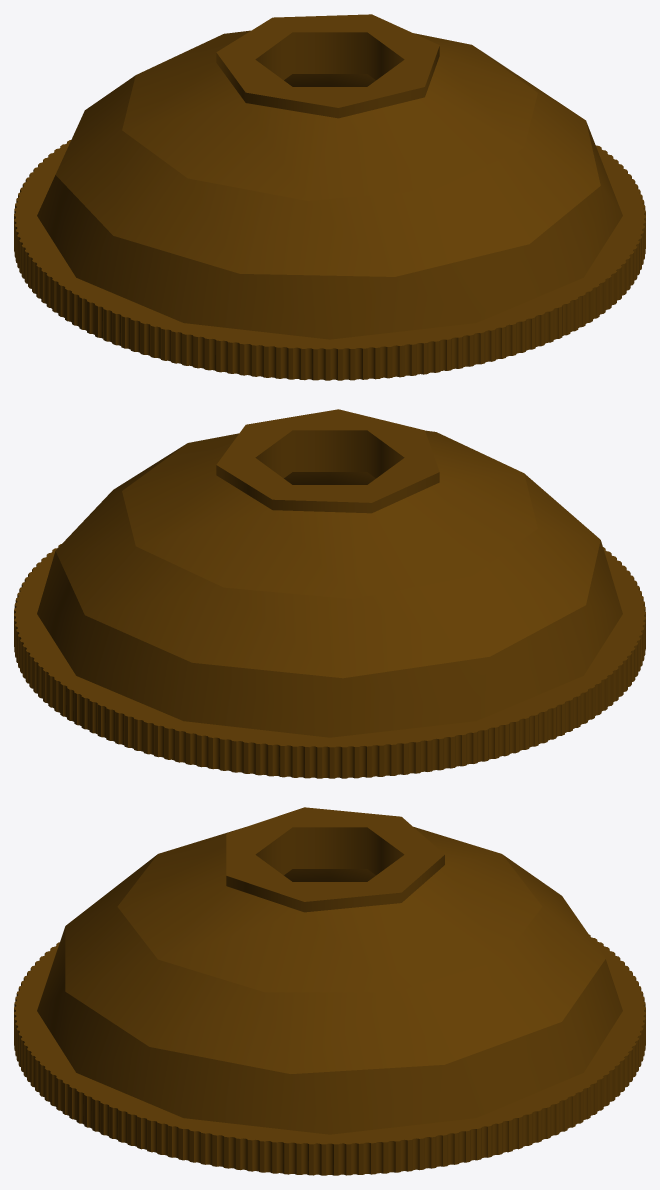
The model's file is Pied Timbre - Dome_Quarts.obj.
The picture shows the model from 3 angles, top to bottom: view 1: azimuth 30°, elevation 25°; view 2: azimuth 150°, elevation 25°; view 3: azimuth 270°, elevation 25°; orthographic projection.
Parts seen in each view (by area): view 1: Face_165, Face_166, Face_164, Face_4, Face_168, Face_169, Face_167, Face_163; view 2: Face_165, Face_166, Face_164, Face_4, Face_168, Face_169, Face_167, Face_163; view 3: Face_165, Face_166, Face_164, Face_4, Face_168, Face_169, Face_167, Face_163.
Part boxes in pixels (x1,y1,x2,y2): Face_165: (55, 47, 600, 276); Face_166: (122, 30, 537, 200); Face_164: (37, 122, 622, 339); Face_4: (14, 140, 645, 349); Face_168: (216, 14, 439, 107); Face_169: (255, 32, 404, 80); Face_167: (216, 46, 439, 118); Face_163: (284, 74, 375, 86); Face_165: (55, 444, 600, 678); Face_166: (122, 430, 537, 598); Face_164: (37, 540, 622, 737); Face_4: (14, 544, 645, 747); Face_168: (216, 409, 439, 502); Face_169: (255, 430, 404, 478); Face_167: (216, 465, 439, 513); Face_163: (284, 472, 375, 484); Face_165: (65, 854, 605, 1073); Face_166: (117, 827, 542, 992); Face_164: (37, 927, 622, 1134); Face_4: (14, 934, 645, 1144); Face_168: (226, 807, 444, 901); Face_169: (255, 827, 404, 875); Face_167: (226, 855, 444, 912); Face_163: (284, 869, 375, 881).
Bounding box in the file's own units: 0.0275 × 0.009 × 0.0275.
